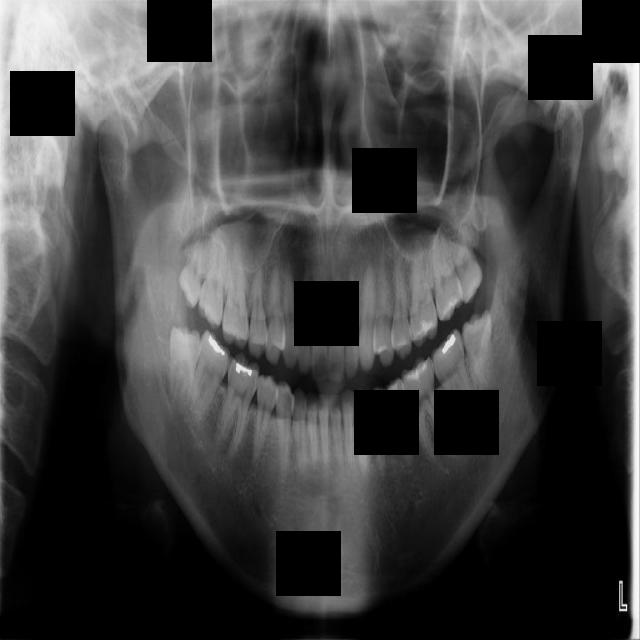3M ESPE Implant: (174, 223, 211, 310)
52: (419, 325, 479, 387), (187, 326, 240, 384), (216, 346, 272, 400), (425, 274, 473, 326), (404, 297, 442, 349), (400, 356, 435, 407), (383, 378, 404, 417)
73: (624, 616, 630, 624)
BioHorizons Implant: (428, 224, 466, 323)
BioLife Implant: (447, 221, 488, 307)
Biomet 3i Implant: (460, 309, 497, 393)
Blue Sky Bio Implant: (426, 328, 477, 434)
Caries: (196, 225, 229, 331)
Implant: (186, 329, 235, 428)
Keystone Dental Implant: (166, 323, 202, 416)
